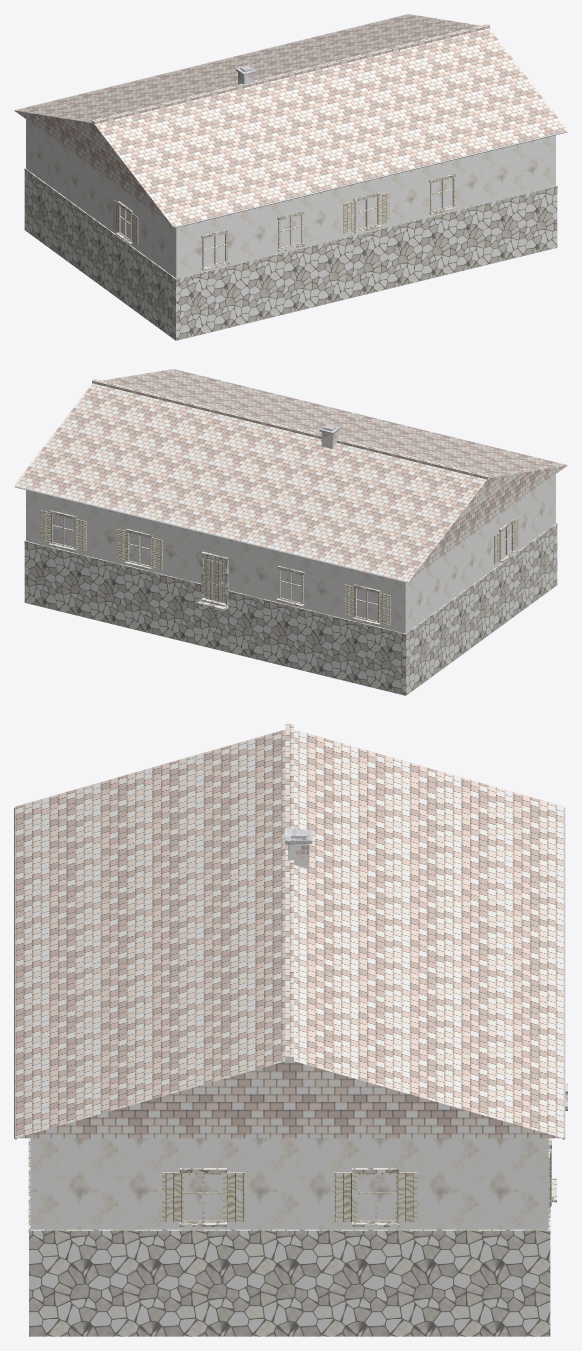
The picture shows the model from 3 angles, top to bottom: view 1: azimuth 30°, elevation 25°; view 2: azimuth 150°, elevation 25°; view 3: azimuth 270°, elevation 25°; orthographic projection. The views are drawn at different scales.
Parts seen in each view (by area): view 1: b615242527; view 2: b615242527; view 3: b615242527.
Boxes of the visible parts, <box> form: b615242527: <box>14,14,567,340</box>; b615242527: <box>14,369,567,695</box>; b615242527: <box>14,724,567,1336</box>.
Bounding box in the file's own units: 18.32 × 7.92 × 12.9.
Materials: 20 (20 with a texture image).
